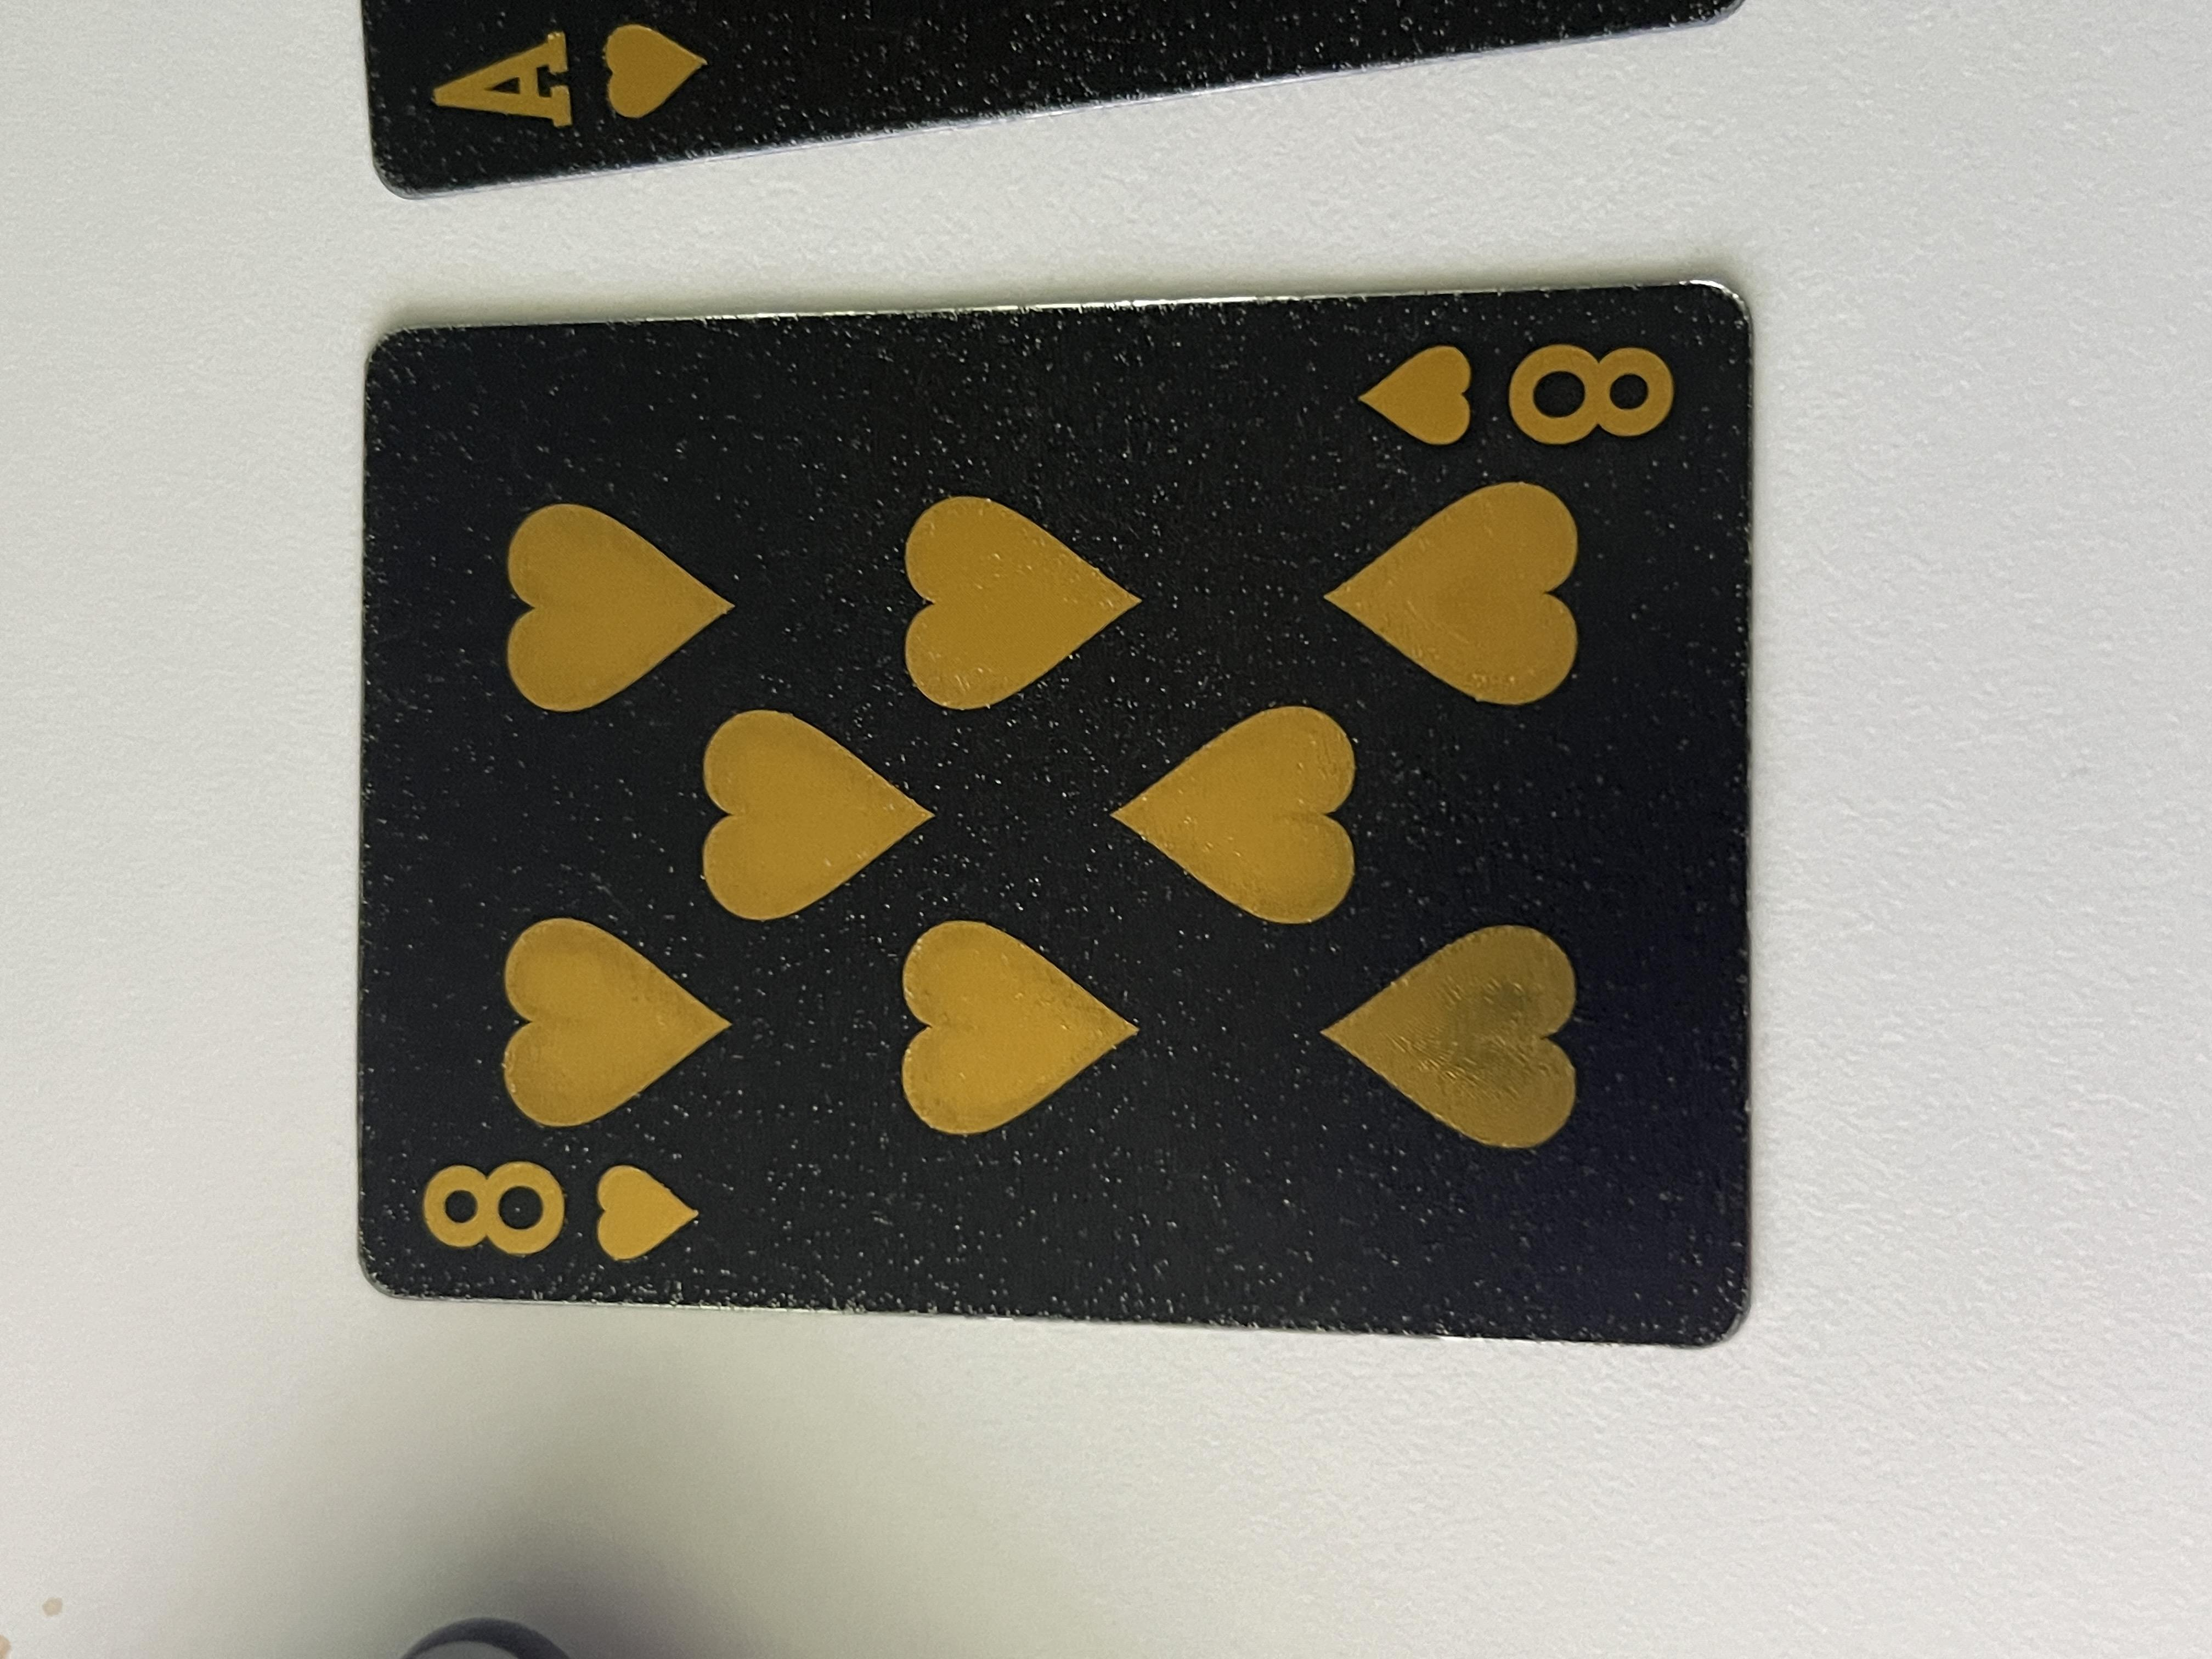8H: (1595, 1016, 1782, 1265), (523, 307, 688, 533)
AH: (2015, 307, 2212, 545)
